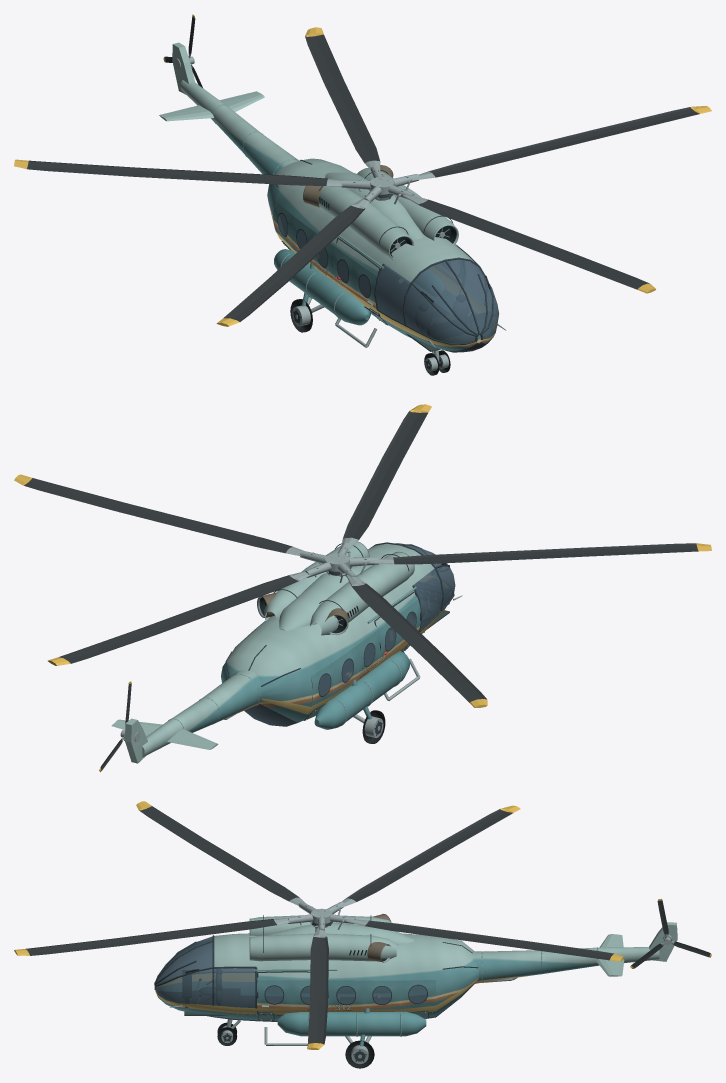
The model's file is NOEUL.glb.
3 renders of one model, top to bottom at view 1: azimuth 30°, elevation 25°; view 2: azimuth 150°, elevation 25°; view 3: azimuth 270°, elevation 25°, orthographic. The views are drawn at different scales.
Visible parts, largest first — view 1: Airframe, MainRotor; view 2: Airframe, MainRotor; view 3: Airframe, MainRotor, TailRotor.
Boxes of the visible parts, x1,y1,x2,y2 form: Airframe: [159, 42, 506, 375]; MainRotor: [14, 27, 711, 326]; Airframe: [111, 541, 462, 763]; MainRotor: [14, 404, 711, 707]; Airframe: [154, 914, 677, 1068]; MainRotor: [14, 801, 623, 1049]; TailRotor: [630, 898, 711, 968].
Bounding box in the file's own units: 19.54 × 5.45 × 23.31.
16 materials, 2 textured.
